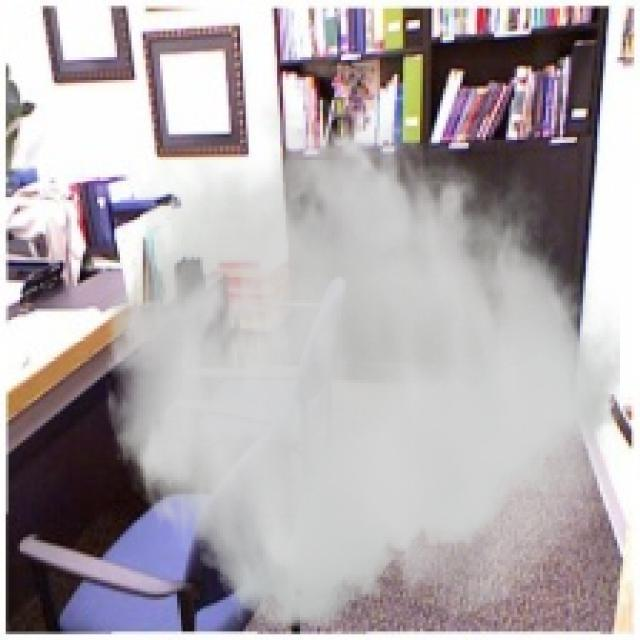Smoke: (100, 94, 620, 629)
